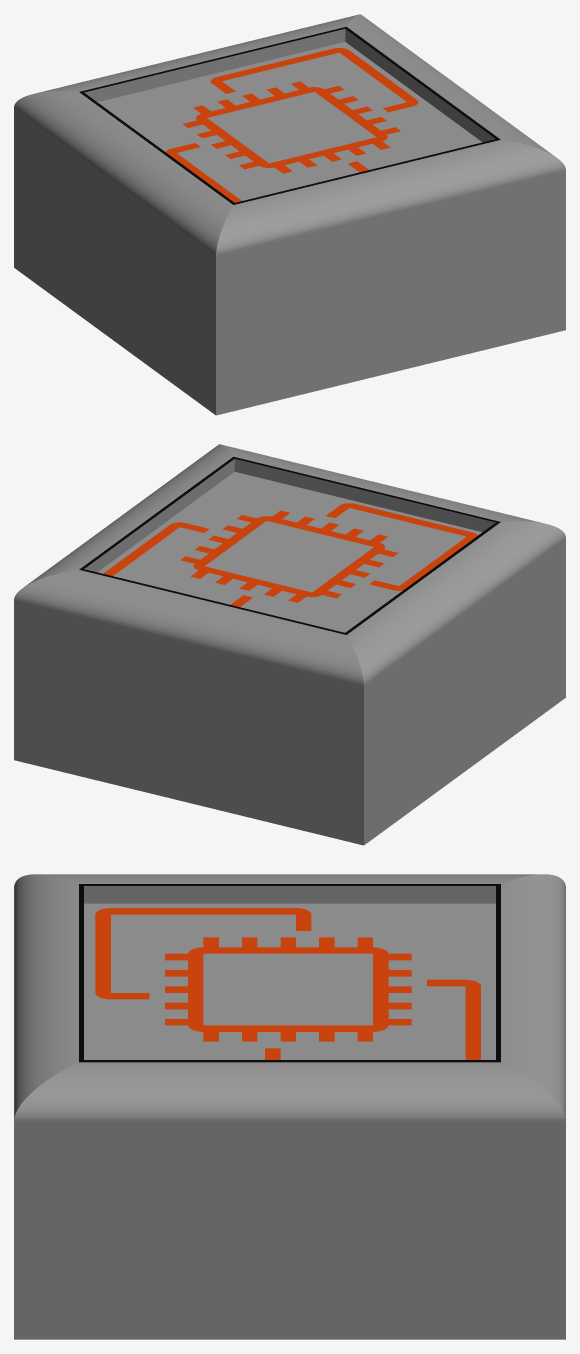
3 views of the same model, one above another, from view 1: azimuth 30°, elevation 25°; view 2: azimuth 150°, elevation 25°; view 3: azimuth 270°, elevation 25° (orthographic). The views are drawn at different scales.
Visible parts, largest first — view 1: Cube, Curve.002, Curve, Curve.001; view 2: Cube, Curve.002, Curve.001, Curve; view 3: Cube, Curve.002, Curve.001, Curve.
Part boxes in pixels (x1,y1,x2,y2): Cube: (14,14,565,415); Curve.002: (183,81,400,173); Curve: (210,48,418,112); Curve.001: (165,143,368,202); Cube: (14,444,565,845); Curve.002: (180,510,398,602); Curve.001: (326,503,477,590); Curve: (103,522,252,606); Cube: (14,874,565,1339); Curve.002: (165,937,411,1041); Curve.001: (95,908,311,999); Curve: (265,979,480,1059).
Size of the model in its own units: 0.5 by 0.25 by 0.5.
